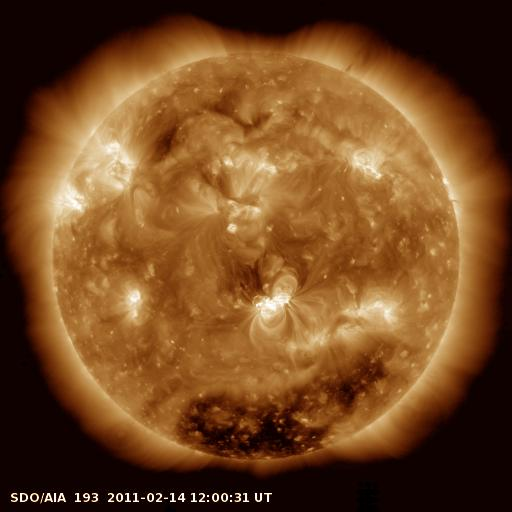coronal_hole: (171, 337, 401, 465)
